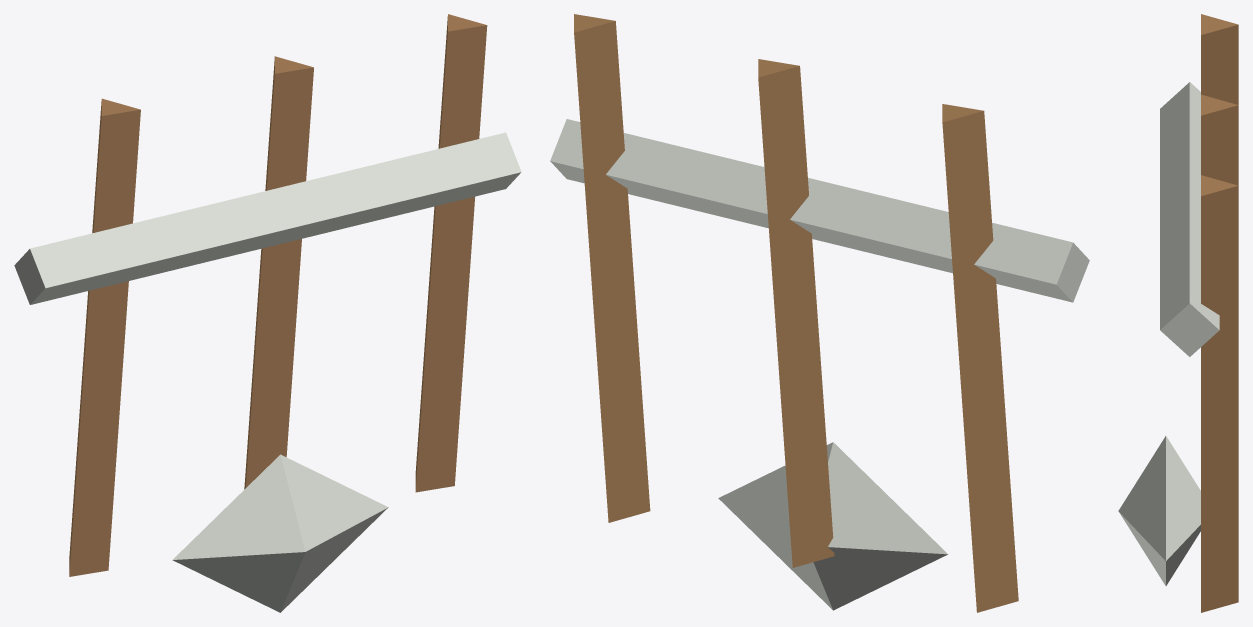
Rendered from Marsh_Ornament.fbx.
3 views of the same model, side by side, from view 1: azimuth 30°, elevation 25°; view 2: azimuth 150°, elevation 25°; view 3: azimuth 270°, elevation 25° (orthographic). The views are drawn at different scales.
Visible parts, largest first — view 1: Marsh_Ornament; view 2: Marsh_Ornament; view 3: Marsh_Ornament.
Part boxes in pixels (x1,y1,x2,y2): Marsh_Ornament: (14,14,521,612); Marsh_Ornament: (550,14,1089,612); Marsh_Ornament: (1118,14,1238,612).
Bounding box in the file's own units: 44 × 46.14 × 10.1.
